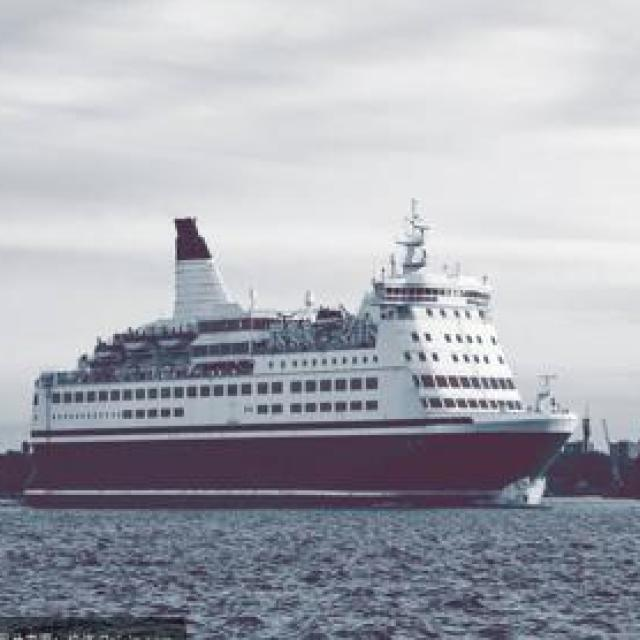passenger ship: (18, 200, 574, 507)
